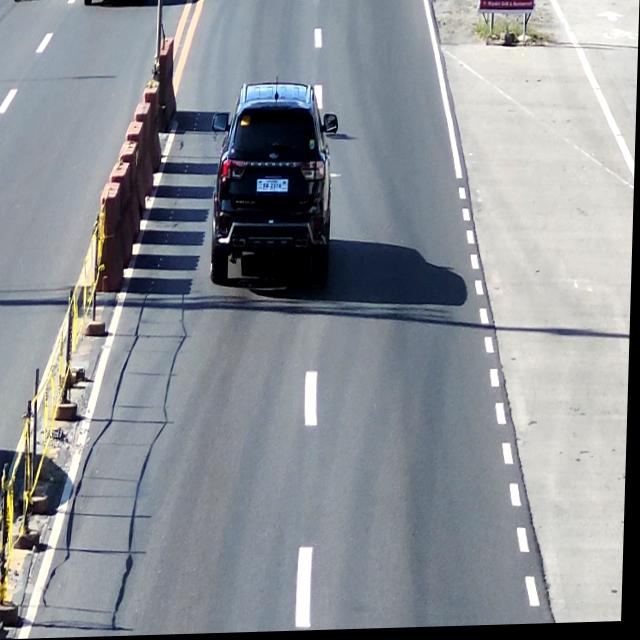Car: (210, 80, 343, 297)
License-Plate: (255, 176, 293, 201)
